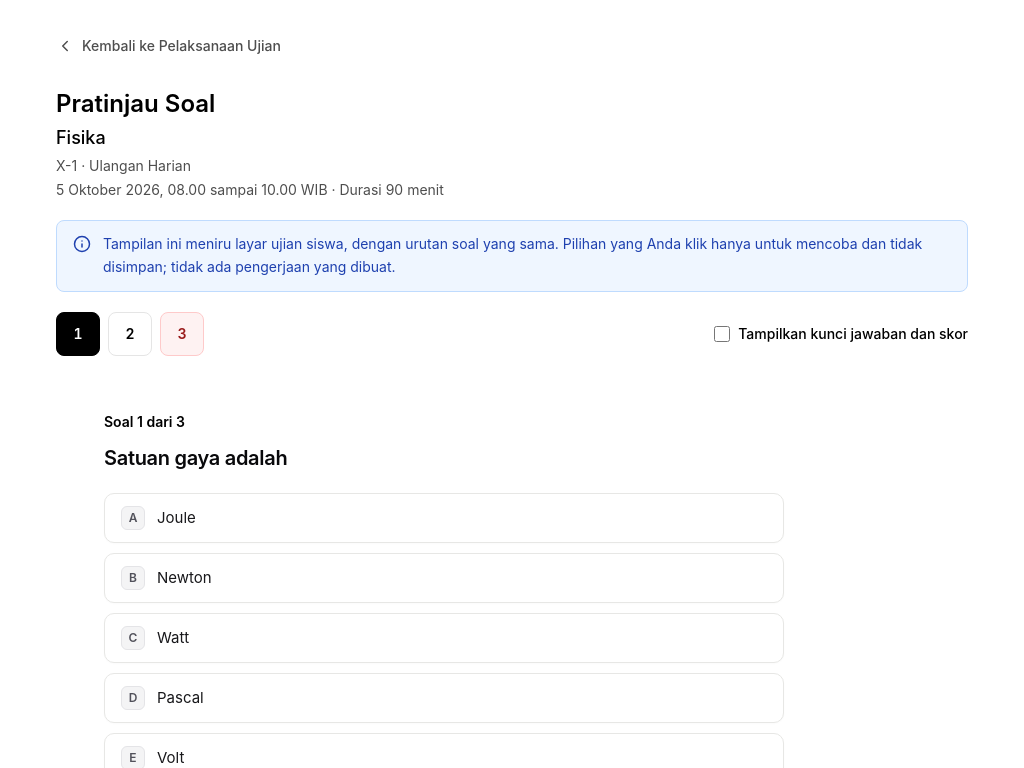
TeacherExamPreviewView › marks content that is not a valid question
Step 1. Click the button named "Soal 3 (tidak valid)" → (182, 334), box 160,312 -> 204,356
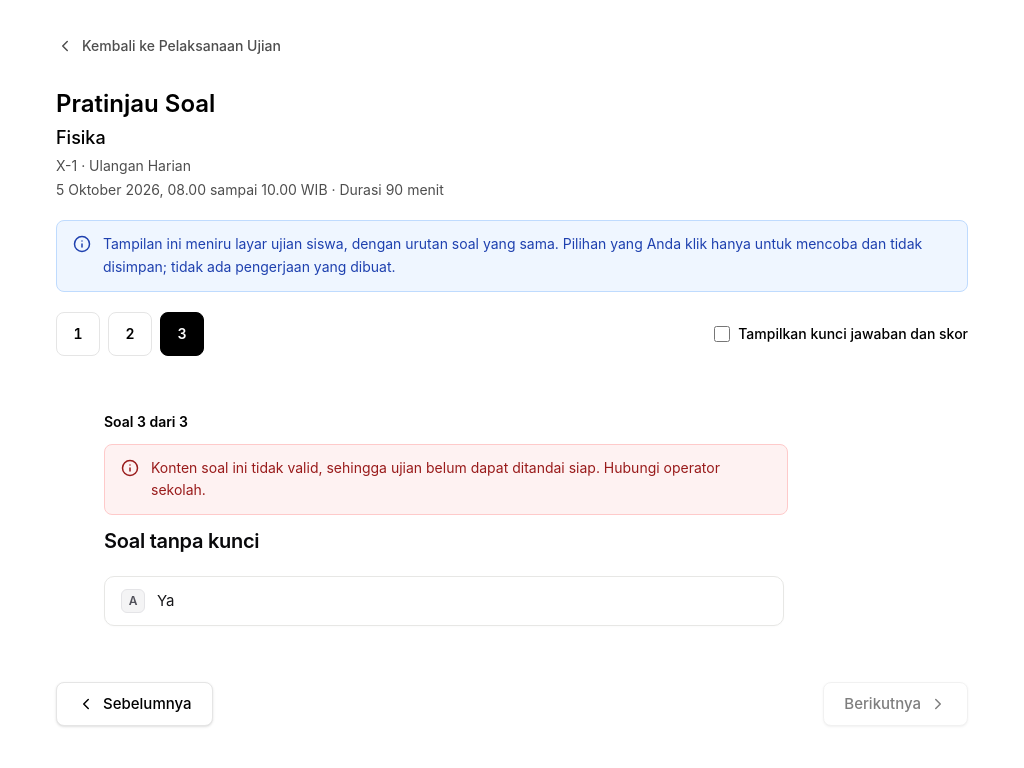
Now the text "Konten soal ini tidak valid, sehingga ujian belum dapat ditandai siap. Hubungi operator sekolah." is shown, box 151,458 -> 720,498
